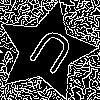U: (21, 26, 78, 84)
